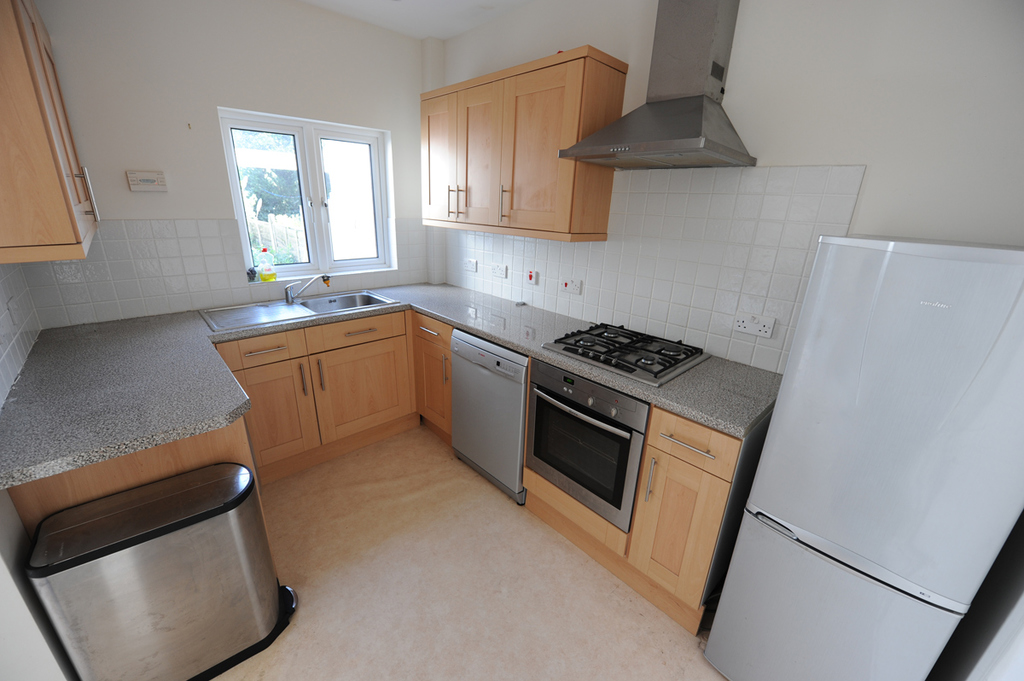cabinet door: (23, 42, 100, 230), (643, 448, 707, 609), (505, 84, 572, 236), (311, 350, 410, 428), (238, 363, 316, 449), (458, 96, 500, 223), (646, 413, 738, 470), (419, 105, 458, 218), (310, 313, 404, 348), (414, 340, 451, 428), (226, 333, 307, 366), (412, 311, 450, 344)
handle: (534, 387, 638, 438), (659, 429, 718, 462), (75, 166, 104, 231), (747, 510, 802, 543), (493, 182, 519, 224), (242, 340, 290, 358), (291, 360, 313, 399), (642, 457, 660, 503), (342, 321, 383, 340), (451, 185, 470, 218), (311, 358, 328, 394), (418, 323, 444, 344), (442, 185, 456, 218), (435, 360, 451, 387)
refrigerator door: (814, 242, 1017, 578), (740, 520, 941, 681)
